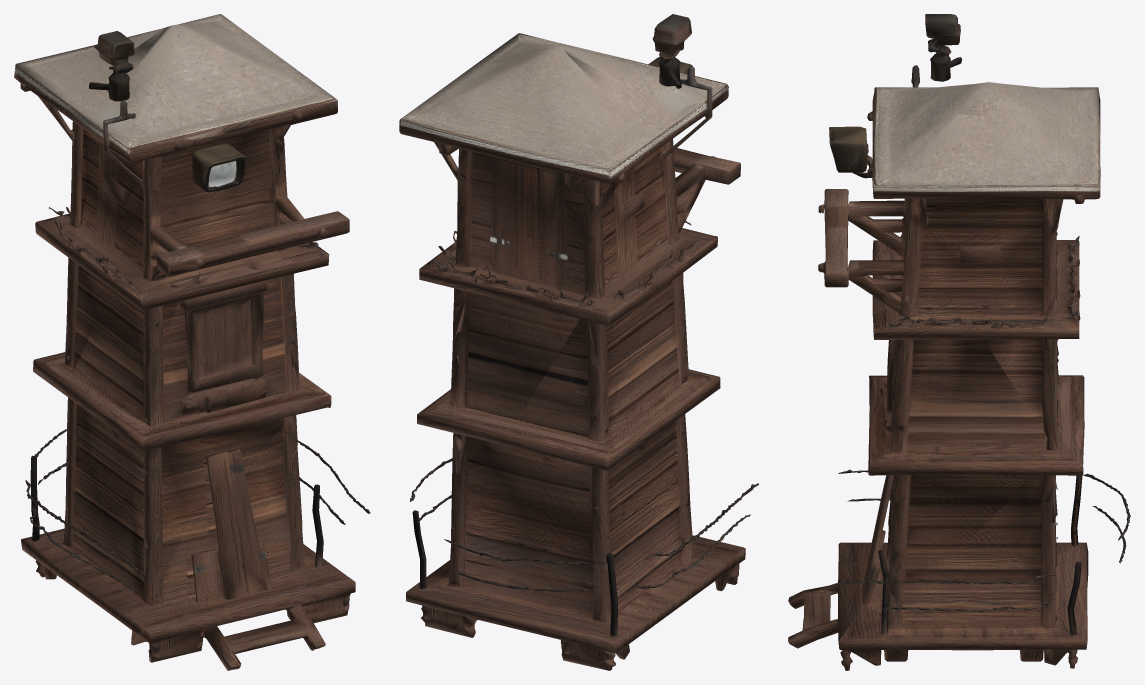
The model's file is prop-searchlight.glb.
3 views of the same model, side by side, from view 1: azimuth 30°, elevation 25°; view 2: azimuth 150°, elevation 25°; view 3: azimuth 270°, elevation 25° (orthographic). The views are drawn at different scales.
Bounding box in the file's own units: 0.8951 × 1.91 × 1.04.
Materials: 1 (1 with a texture image).
